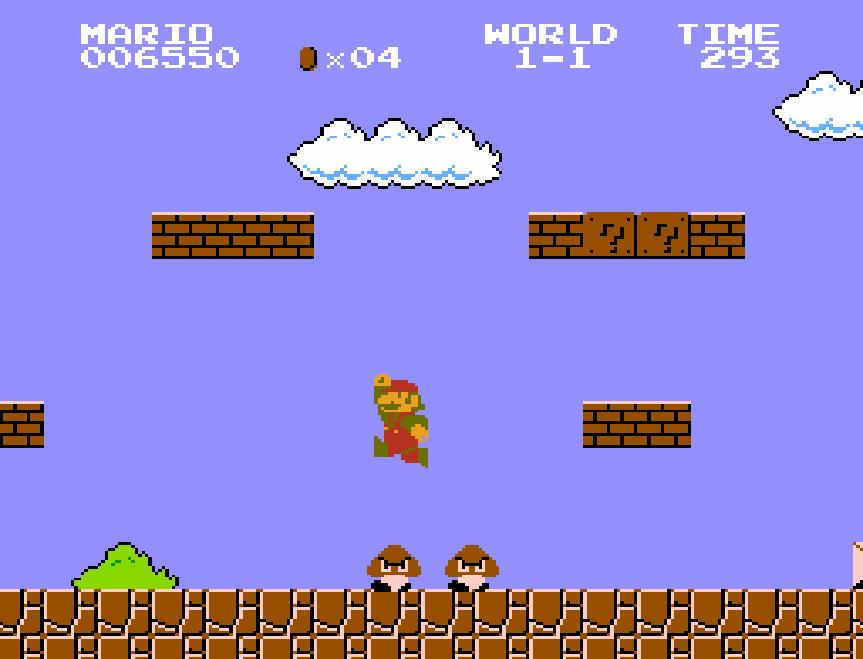big_mario: (372, 372, 430, 470)
